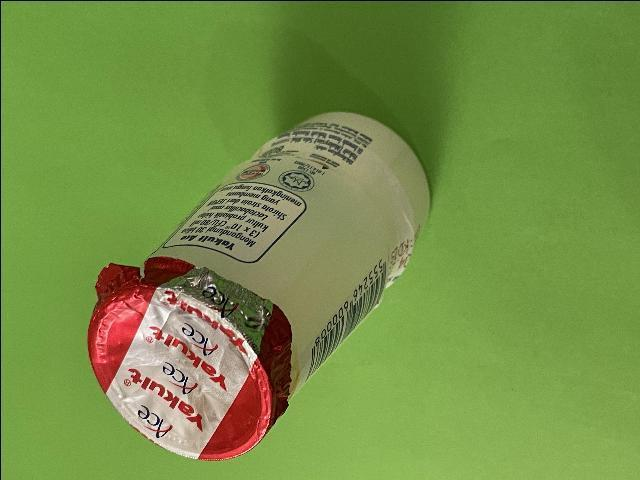plasticbottle: (82, 106, 436, 462)
